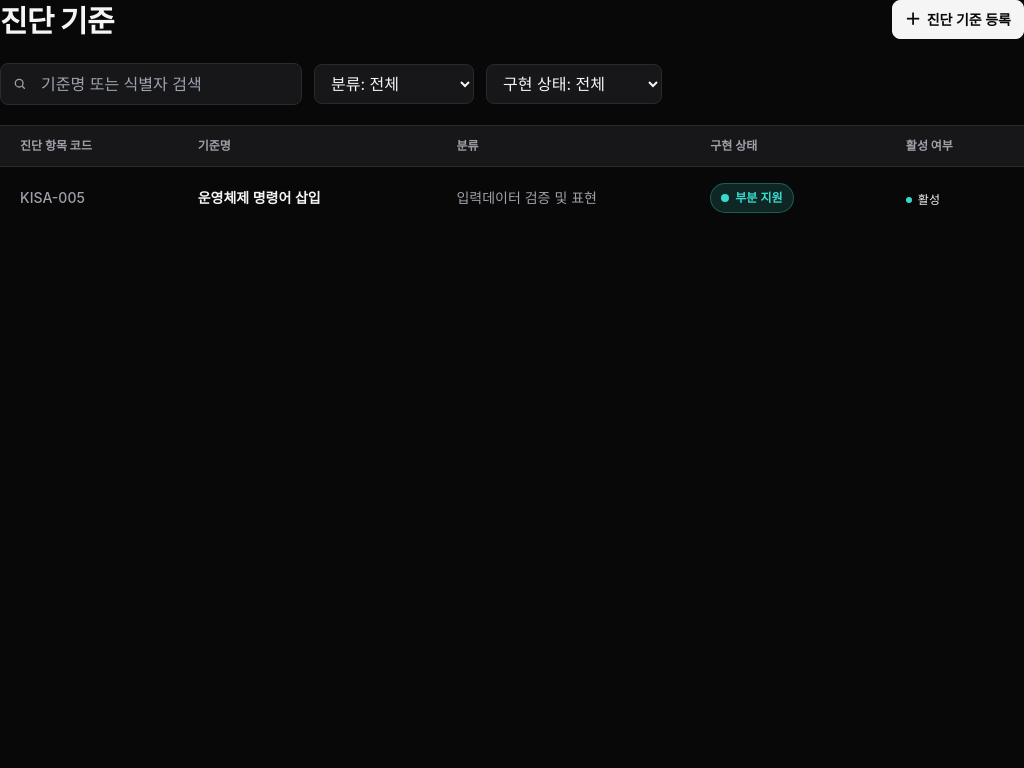
Scenario: E6 results and catalog pages › opens the ADMIN catalog drawer without a create-time recommendation field
The width and height of the screenshot is (1024, 768).
Click the button "＋진단 기준 등록" at (958, 20), box [892, 0, 1023, 39]
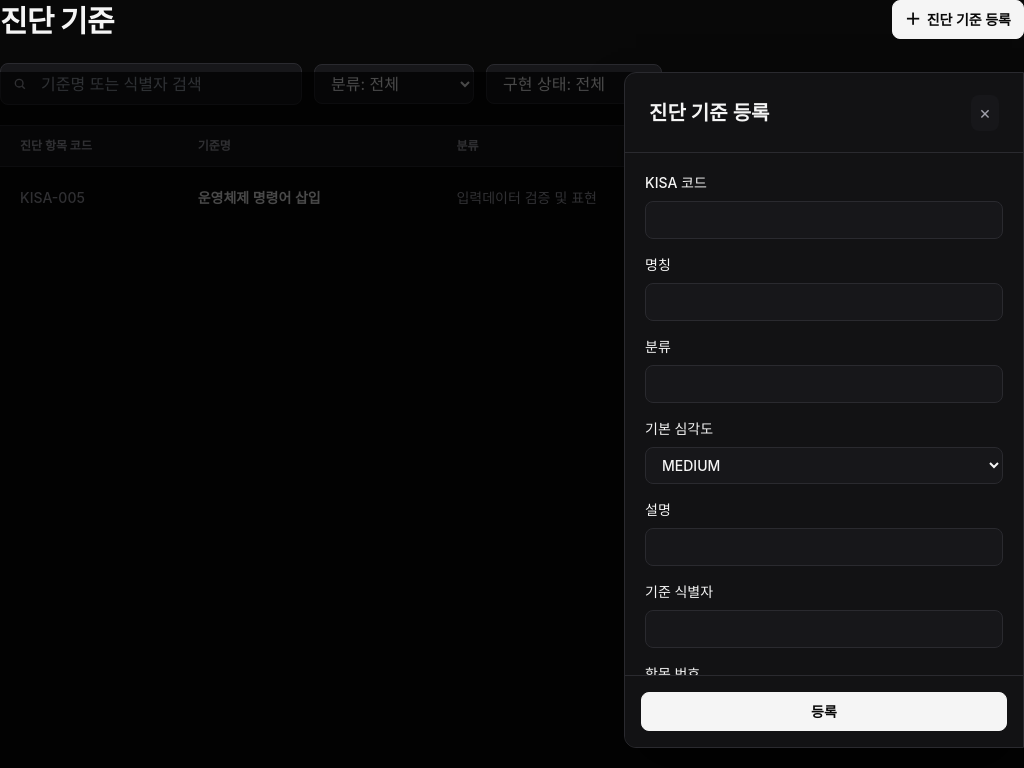
Expected: the dialog "진단 기준 등록" is shown, [624, 72, 1023, 748]
